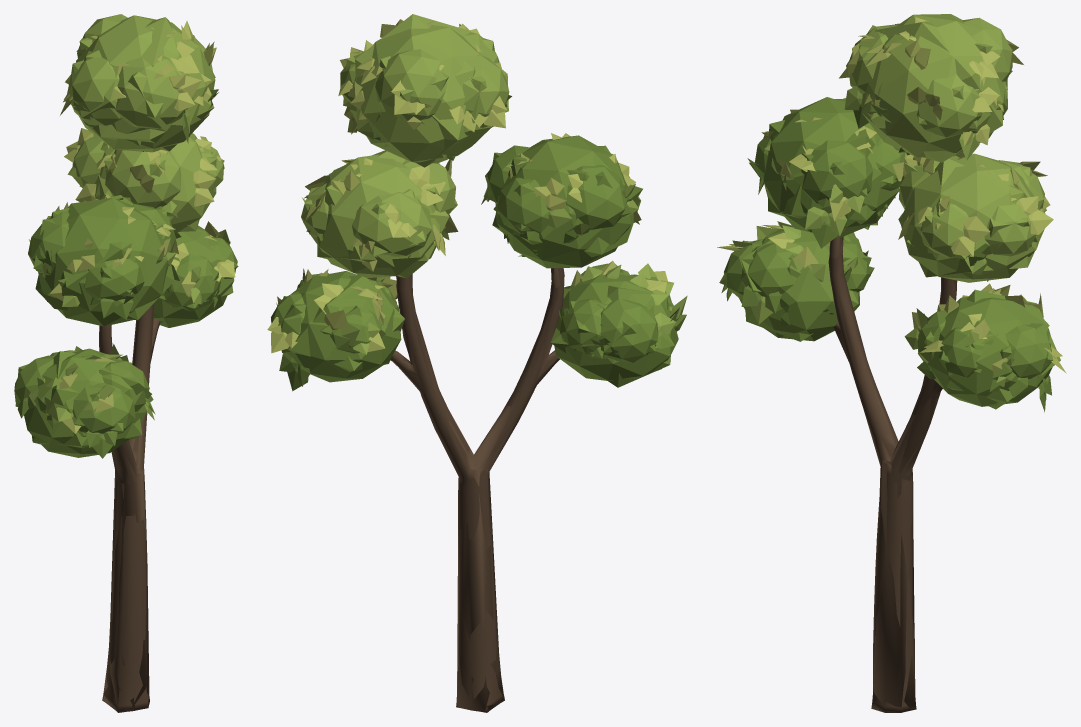
3 views of the same model, side by side, from view 1: azimuth 30°, elevation 25°; view 2: azimuth 150°, elevation 25°; view 3: azimuth 270°, elevation 25° (orthographic). The views are drawn at different scales.
Parts seen in each view (by area): view 1: L0-crown, L1-crown, L0-trunk, L1-trunk; view 2: L0-crown, L1-crown, L0-trunk, L1-trunk; view 3: L0-crown, L1-crown, L0-trunk, L1-trunk.
Part boxes in pixels (x1=…): L0-crown: x1=14, y1=14, x2=237, y2=458; L1-crown: x1=15, y1=17, x2=238, y2=456; L0-trunk: x1=99, y1=303, x2=159, y2=712; L1-trunk: x1=99, y1=303, x2=158, y2=711; L0-crown: x1=267, y1=20, x2=687, y2=391; L1-crown: x1=273, y1=14, x2=678, y2=387; L0-trunk: x1=390, y1=162, x2=564, y2=712; L1-trunk: x1=391, y1=268, x2=564, y2=711; L0-crown: x1=717, y1=14, x2=1066, y2=412; L1-crown: x1=717, y1=21, x2=1060, y2=409; L0-trunk: x1=829, y1=237, x2=956, y2=712; L1-trunk: x1=828, y1=237, x2=957, y2=707.
Size of the model in its own units: 2.96 by 6.32 by 2.84.
